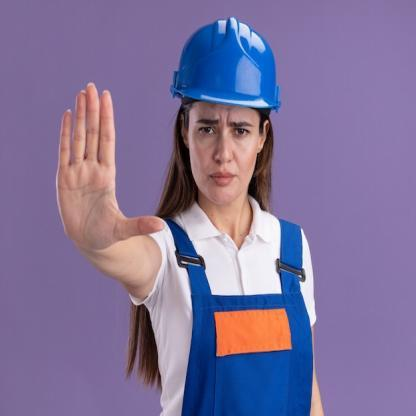stop: (52, 79, 172, 274)
